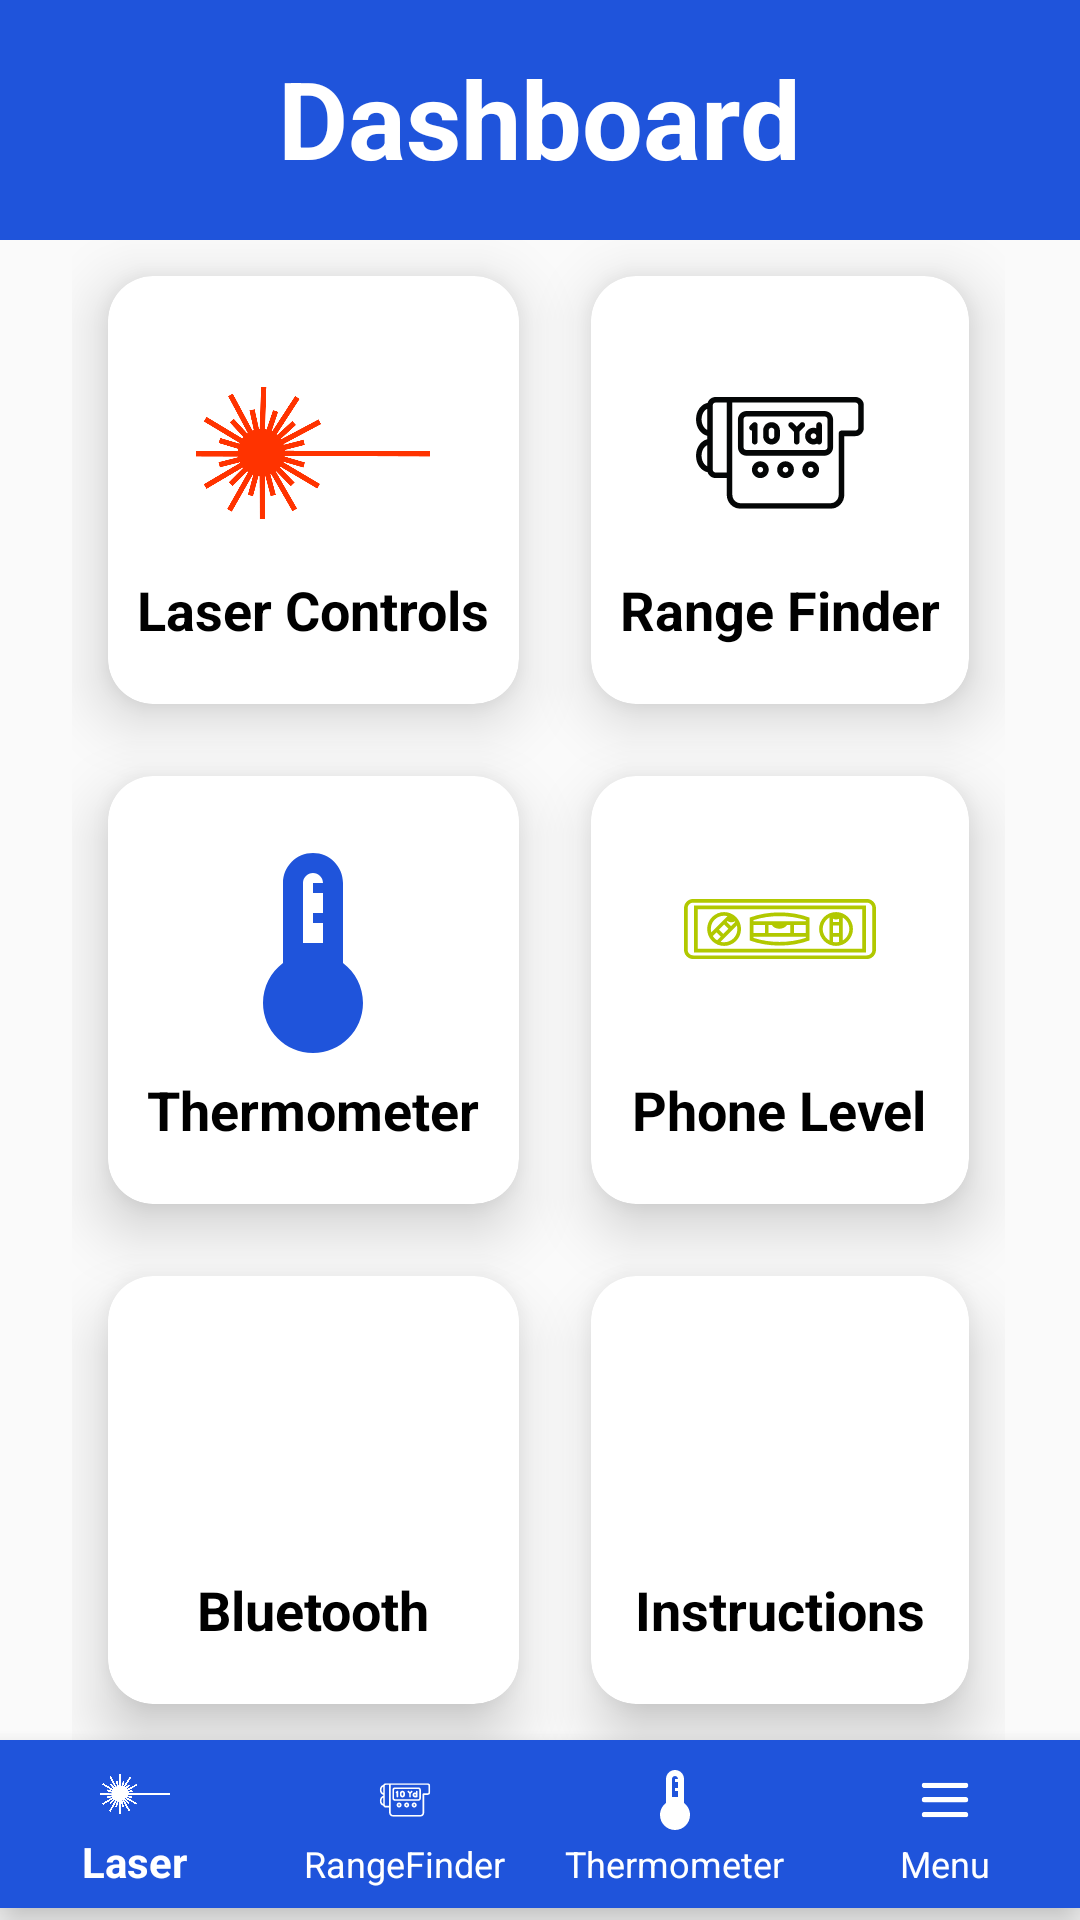

Where icons sit on this 1080px x 1920px app screen, as [x1=x1, y1=y1, x2=x2, y2=y2]:
noun bubble level: [x1=684, y1=899, x2=876, y2=959]
